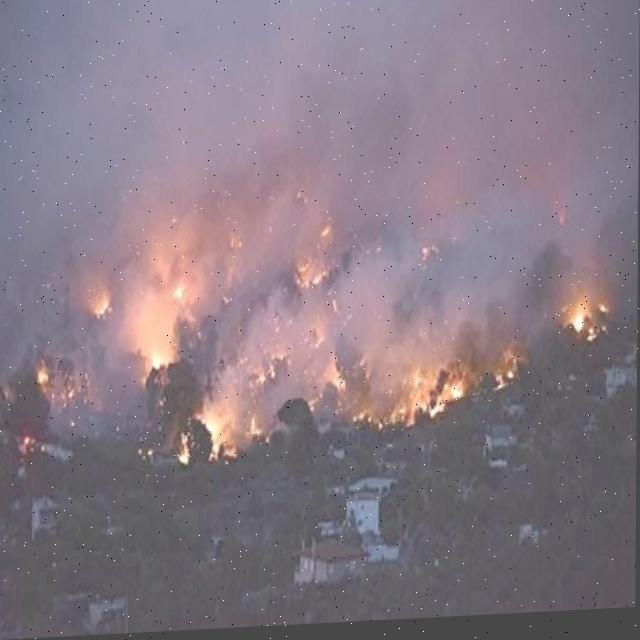Fire: (138, 187, 522, 445), (564, 292, 600, 356), (92, 276, 116, 328), (32, 354, 58, 396)
